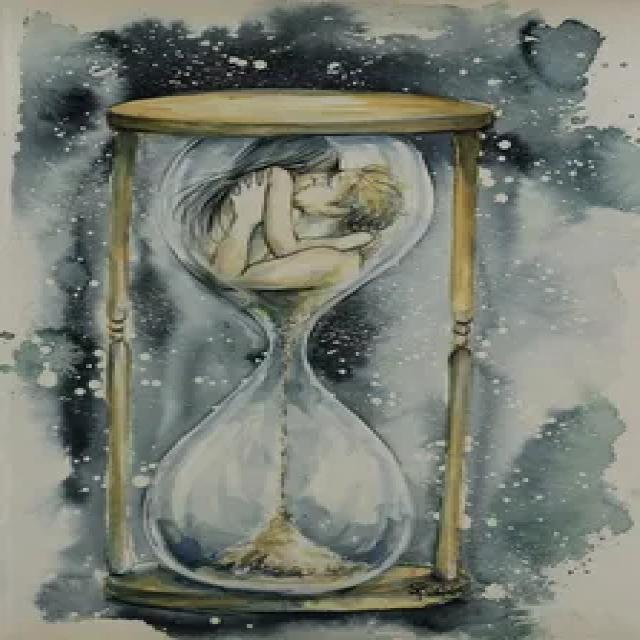clock: (84, 69, 512, 627)
